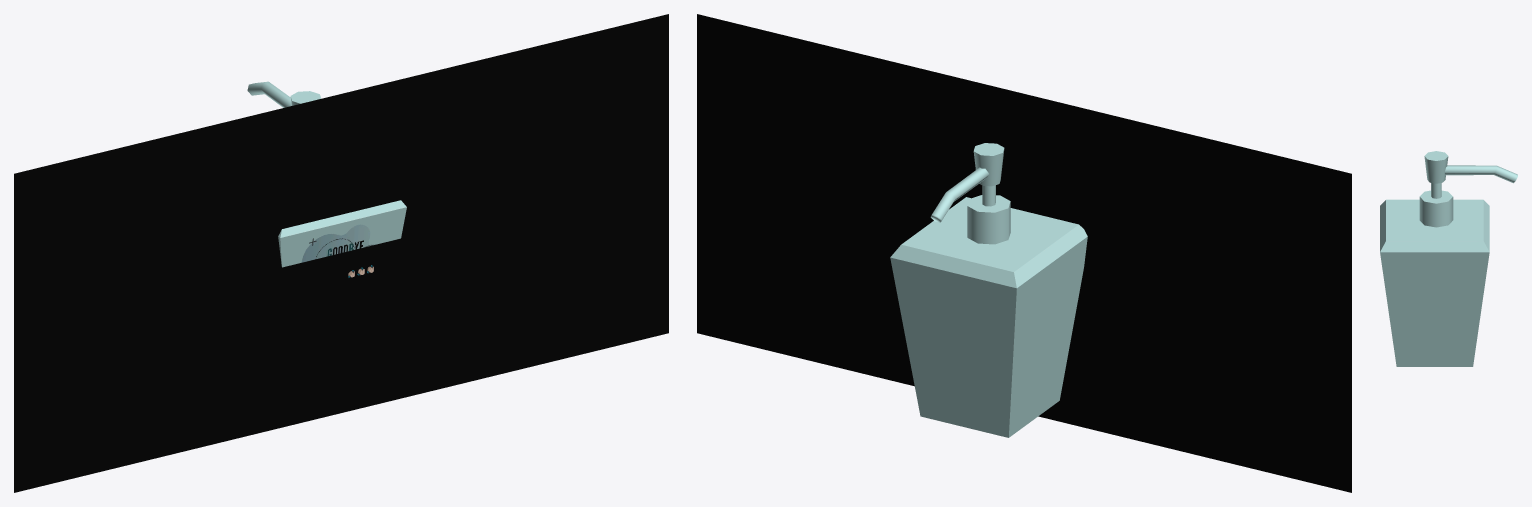
File: jabon.fbx
3 views of the same model, side by side, from view 1: azimuth 30°, elevation 25°; view 2: azimuth 150°, elevation 25°; view 3: azimuth 270°, elevation 25° (orthographic). The views are drawn at different scales.
Visible parts, largest first — view 1: root, node_id34, node_id36; view 2: root, node_id34, node_id36; view 3: node_id34, node_id36.
Part boxes in pixels (x1=…): root: x1=14, y1=14, x2=668, y2=492; node_id34: x1=278, y1=200, x2=406, y2=267; node_id36: x1=247, y1=81, x2=321, y2=107; root: x1=697, y1=14, x2=1351, y2=492; node_id34: x1=890, y1=197, x2=1087, y2=437; node_id36: x1=930, y1=143, x2=1010, y2=244; node_id34: x1=1380, y1=199, x2=1489, y2=366; node_id36: x1=1419, y1=151, x2=1517, y2=227.
Bounding box in the file's own units: 1.35 × 0.629 × 0.3286.
Materials: 3 (3 with a texture image).
